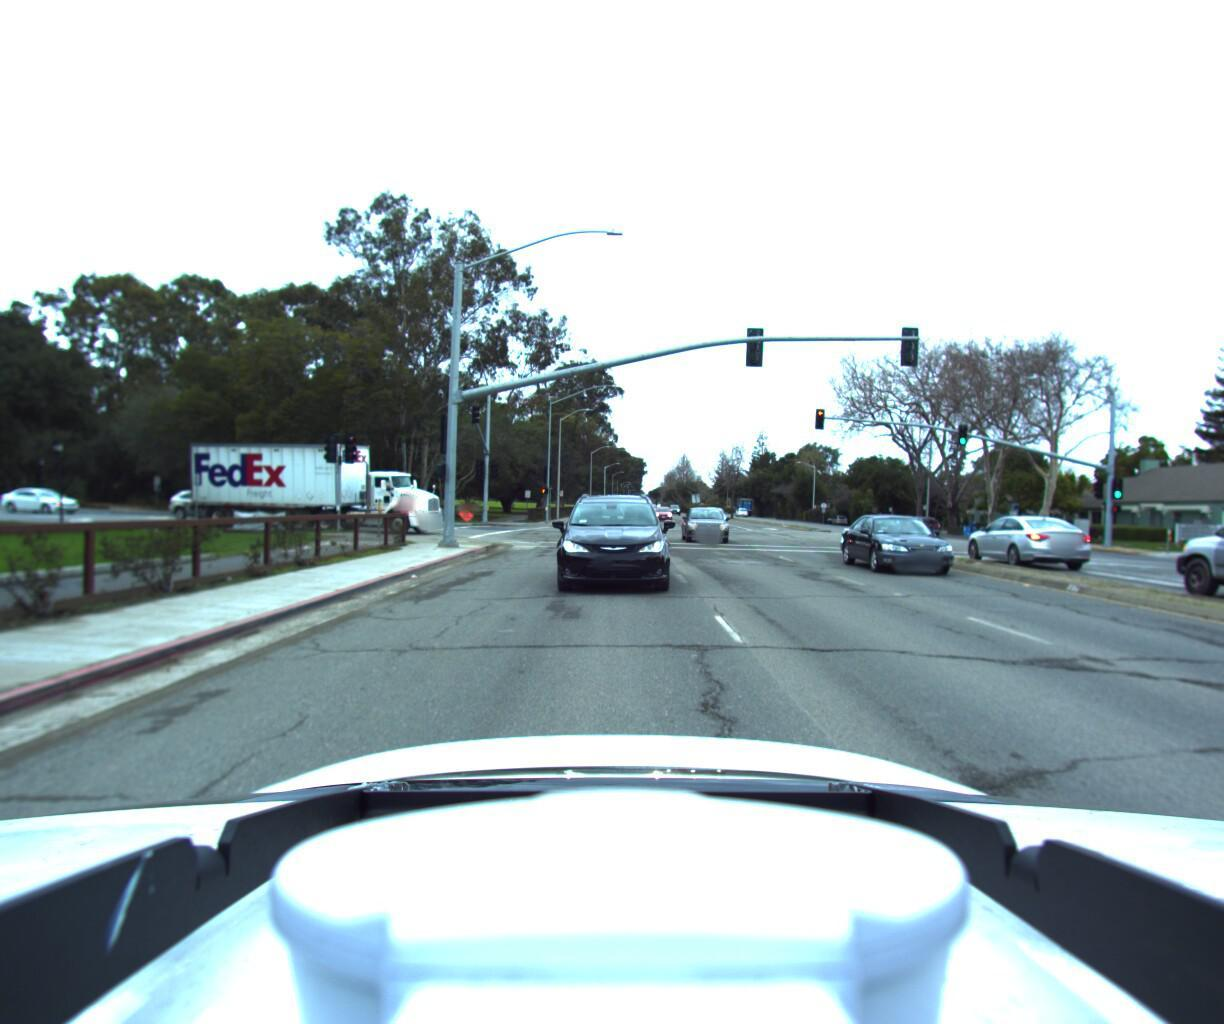car: (548, 484, 667, 592), (847, 514, 990, 581), (1167, 489, 1224, 635), (963, 513, 1096, 574), (161, 487, 254, 521), (680, 504, 735, 544), (0, 486, 78, 514), (648, 503, 669, 519)
truck: (175, 442, 449, 535)
